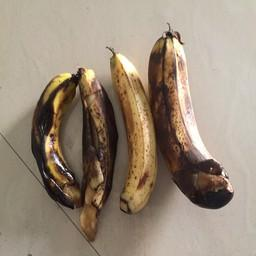Bad_banana: (148, 26, 234, 212), (35, 62, 113, 238)
